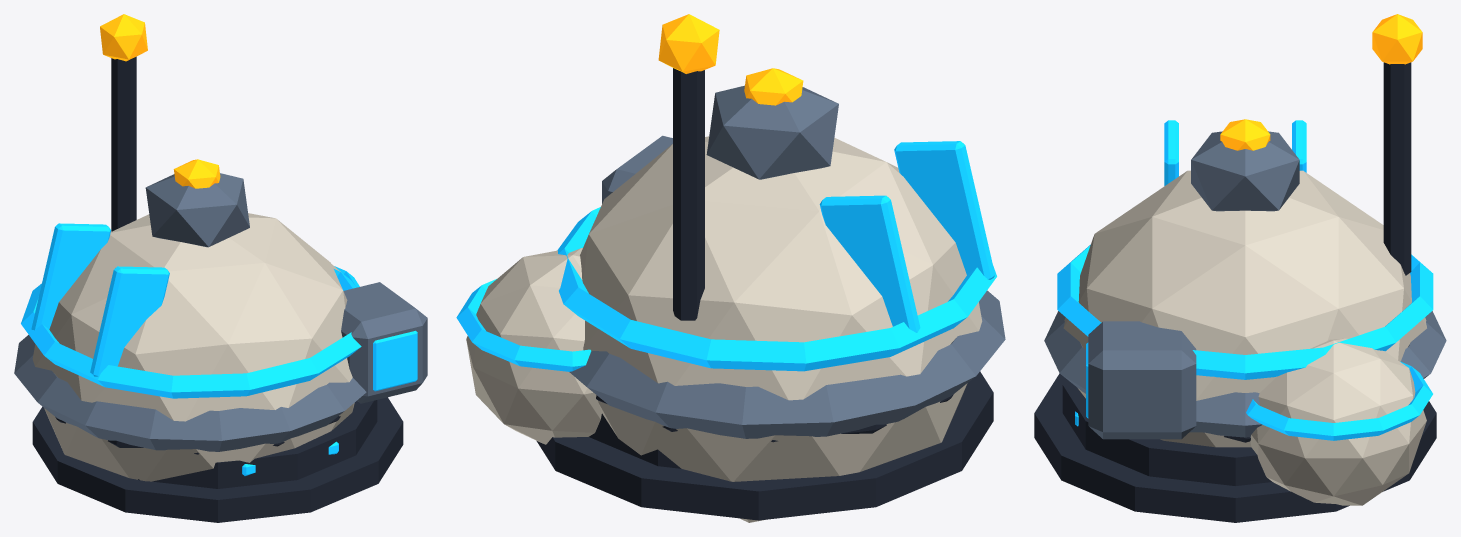
The model's file is colony-module.glb.
3 renders of one model, left to right at view 1: azimuth 30°, elevation 25°; view 2: azimuth 150°, elevation 25°; view 3: azimuth 270°, elevation 25°, orthographic. The views are drawn at different scales.
Parts seen in each view (by area): view 1: Geodesic habitat, Plinth lower tier, Ring corridor, Habitat horizon band, Dome cupola, Plinth upper tier, Airlock spine, Radiator fin, Beacon spire, Radiator fin.001, Airlock door, Colony beacon (+1 smaller); view 2: Geodesic habitat, Ring corridor, Plinth lower tier, Habitat annex, Habitat horizon band, Dome cupola, Beacon spire, Radiator fin, Radiator fin.001, Annex band, Colony beacon, Cupola light (+2 smaller); view 3: Geodesic habitat, Habitat annex, Plinth lower tier, Airlock spine, Habitat horizon band, Plinth upper tier, Dome cupola, Ring corridor, Beacon spire, Annex band, Colony beacon, Cupola light (+2 smaller).
Part boxes in pixels (box(x1,y1,x2,y2)): Geodesic habitat: box(32, 213, 354, 481); Plinth lower tier: box(32, 397, 403, 522); Ring corridor: box(14, 335, 366, 451); Habitat horizon band: box(21, 269, 361, 398); Dome cupola: box(145, 173, 249, 247); Plinth upper tier: box(138, 400, 377, 488); Airlock spine: box(341, 282, 427, 403); Radiator fin: box(90, 266, 169, 376); Beacon spire: box(111, 56, 136, 231); Radiator fin.001: box(31, 223, 110, 330); Airlock door: box(373, 330, 417, 391); Colony beacon: box(100, 14, 147, 61); Geodesic habitat: box(580, 136, 982, 522); Ring corridor: box(569, 290, 1005, 438); Plinth lower tier: box(536, 371, 993, 520); Habitat annex: box(466, 248, 601, 444); Habitat horizon band: box(557, 207, 996, 371); Dome cupola: box(706, 85, 838, 179); Beacon spire: box(673, 68, 704, 320); Radiator fin: box(894, 141, 994, 279); Radiator fin.001: box(819, 195, 920, 332); Annex band: box(456, 279, 591, 371); Colony beacon: box(658, 14, 719, 73); Cupola light: box(744, 68, 803, 105); Geodesic habitat: box(1063, 170, 1426, 447); Habitat annex: box(1250, 338, 1426, 505); Plinth lower tier: box(1034, 373, 1436, 522); Airlock spine: box(1088, 321, 1196, 439); Habitat horizon band: box(1057, 244, 1433, 379); Plinth upper tier: box(1062, 379, 1271, 485); Dome cupola: box(1191, 131, 1299, 211); Ring corridor: box(1044, 311, 1446, 437); Beacon spire: box(1383, 62, 1411, 275); Annex band: box(1246, 361, 1432, 440); Colony beacon: box(1372, 14, 1422, 64); Cupola light: box(1220, 119, 1270, 150).
Size of the model in its own units: 0.913 by 1.07 by 0.84.
